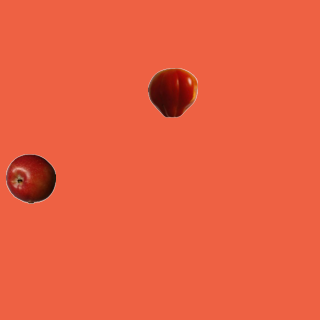Apple Braeburn: (5, 153, 55, 203)
Tomato 1: (147, 67, 197, 117)
